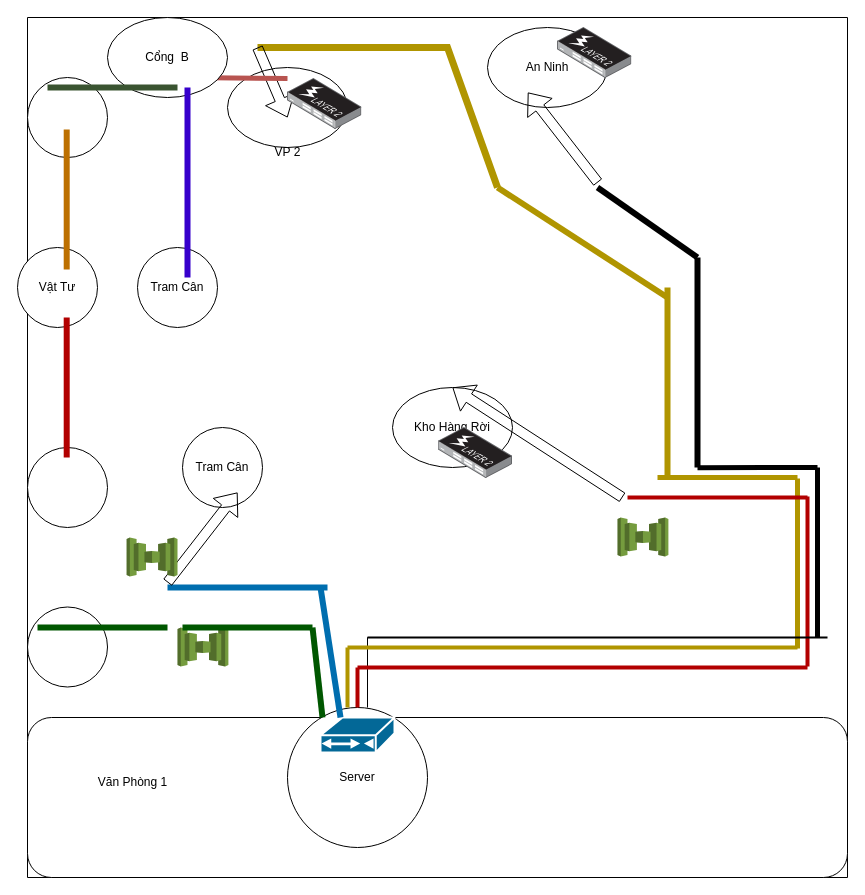
Image size: 865x895. Some labels were removed from this diagram. Here are the shapes that lost their labels. From the top down, the centre of each, then its label:
(67,117): Kỹ Thuật
(67,487): Bãi rỗng
(67,646): Bai Hang
